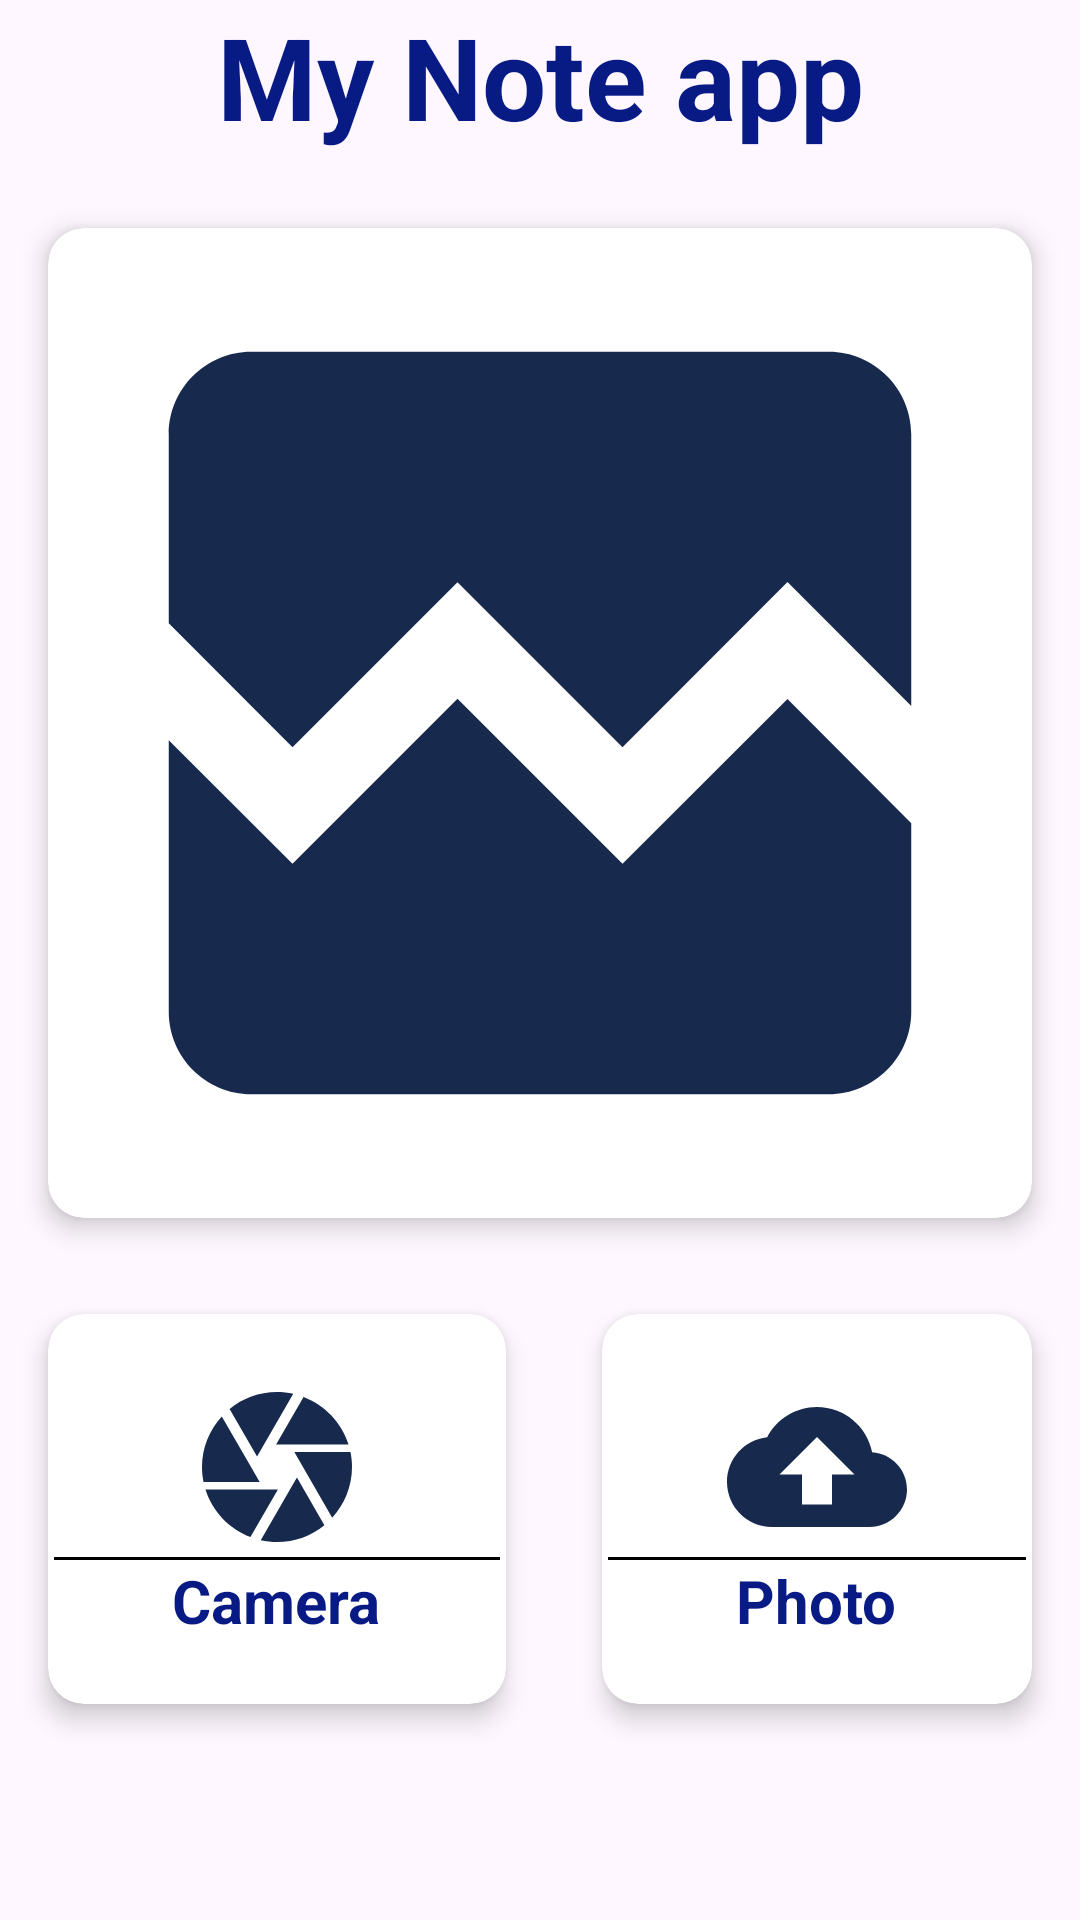

Screen size 1080px×1920px. Icon name, then its center in pixels as (x,y):
upload: (817,1467)
